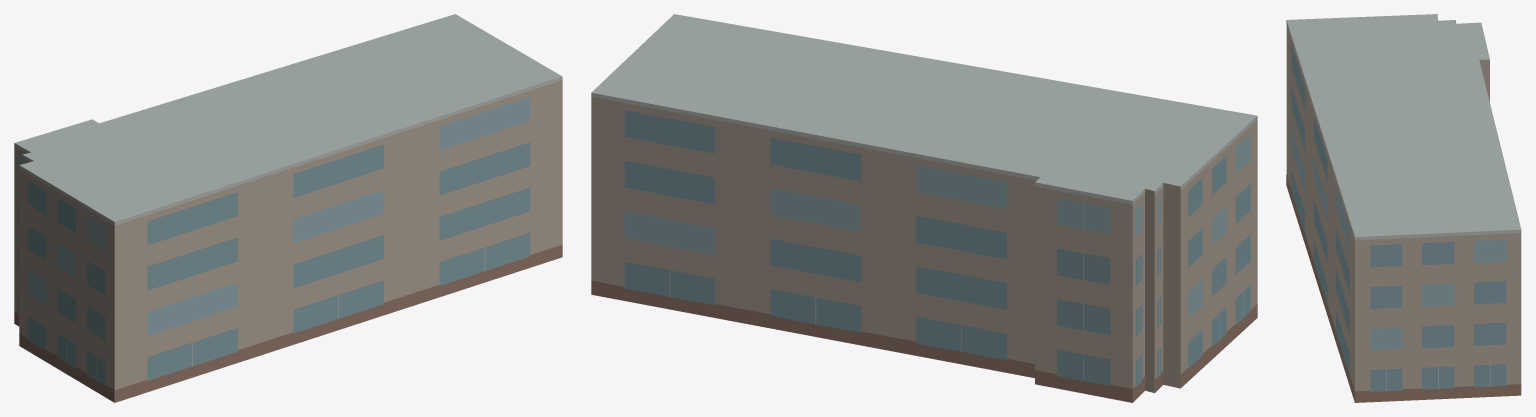
The model's file is survey-upis-32999390.glb.
3 renders of one model, left to right at view 1: azimuth 30°, elevation 25°; view 2: azimuth 150°, elevation 25°; view 3: azimuth 270°, elevation 25°, orthographic. The views are drawn at different scales.
Parts seen in each view (by area): view 1: survey-upis-32999390.tmp; view 2: survey-upis-32999390.tmp; view 3: survey-upis-32999390.tmp.
Part boxes in pixels (x1,y1,x2,y2): survey-upis-32999390.tmp: (14,14,562,402); survey-upis-32999390.tmp: (591,14,1257,402); survey-upis-32999390.tmp: (1286,14,1521,402).
Size of the model in its own units: 34.9 by 12.1 by 15.54.
